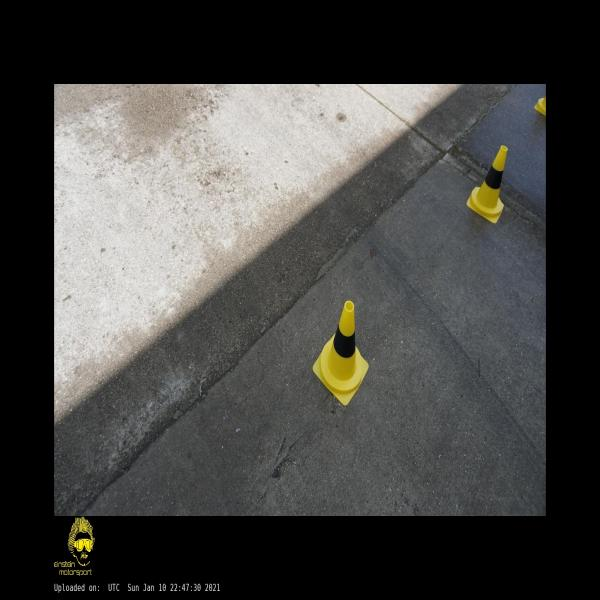yellow_cone: (313, 300, 368, 406), (467, 145, 508, 223)
